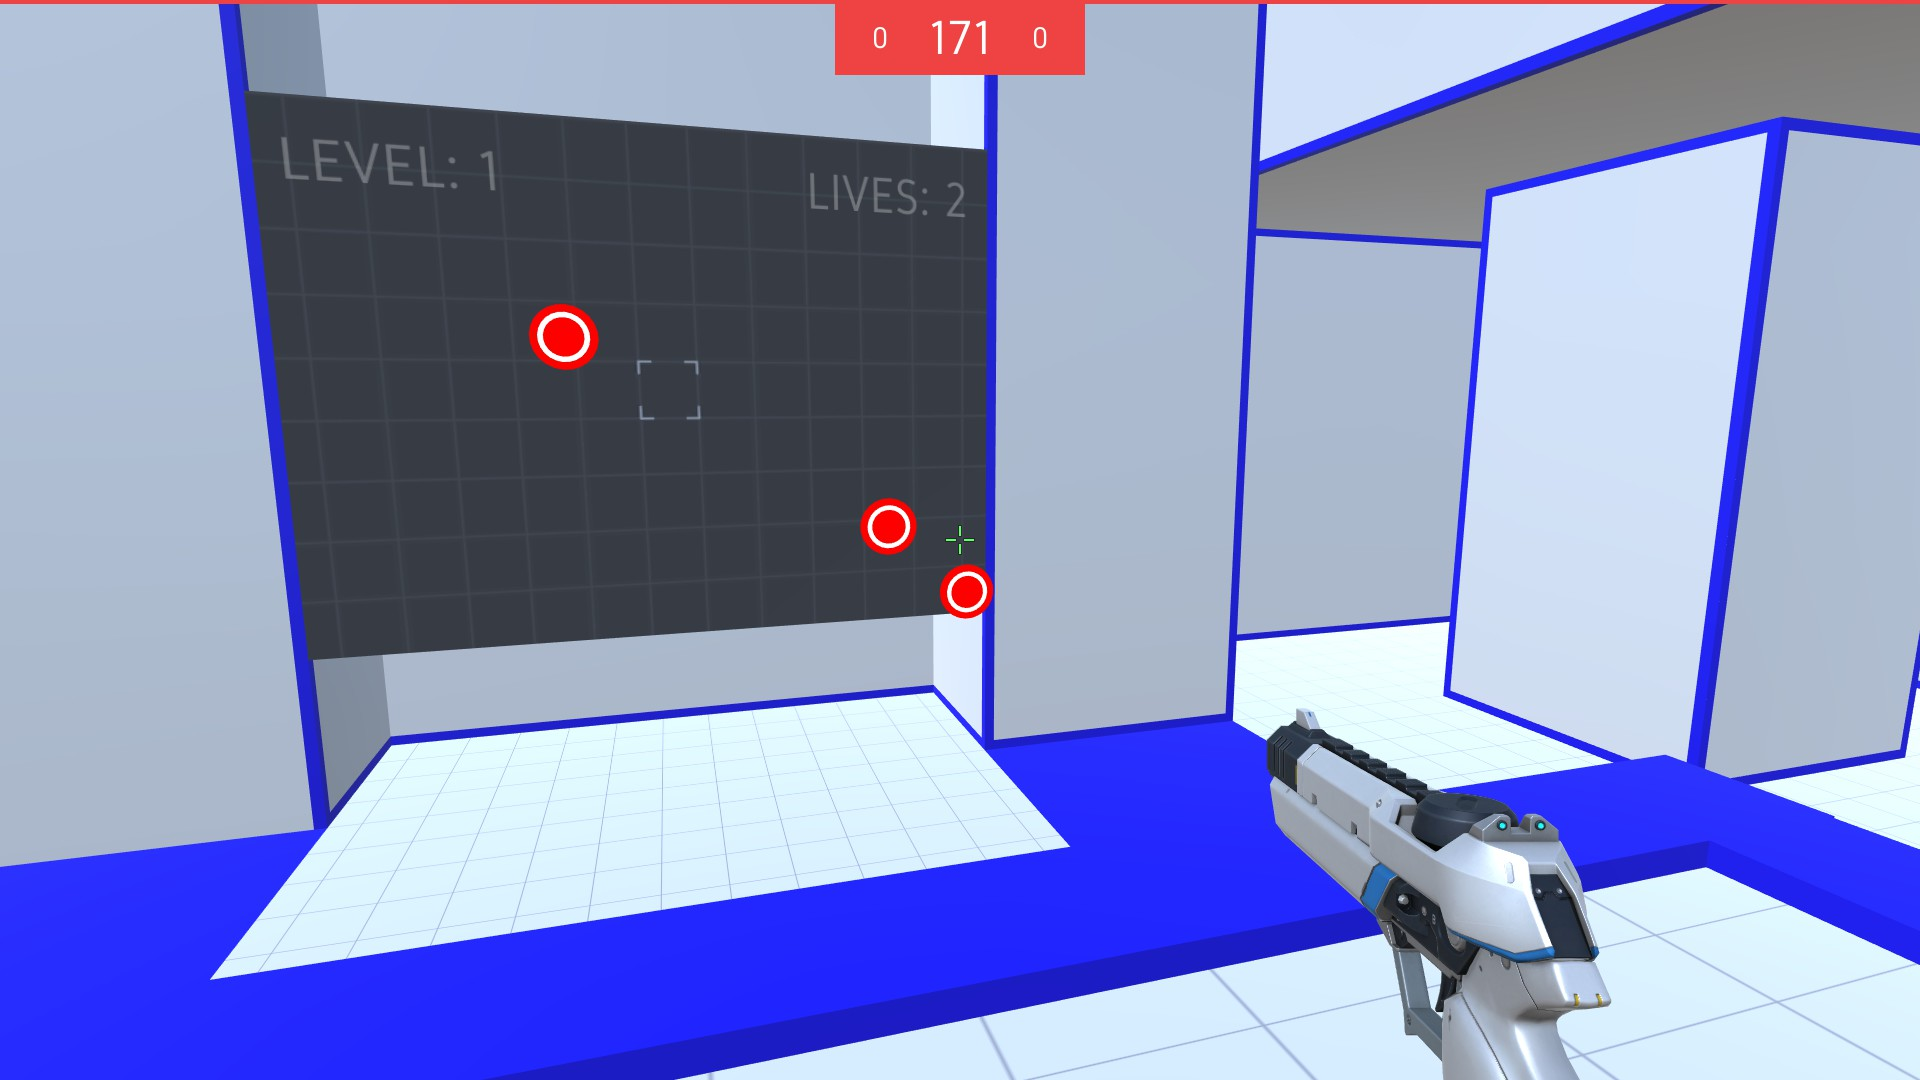target: (525, 303, 603, 373), (855, 496, 918, 556), (940, 564, 997, 618)
